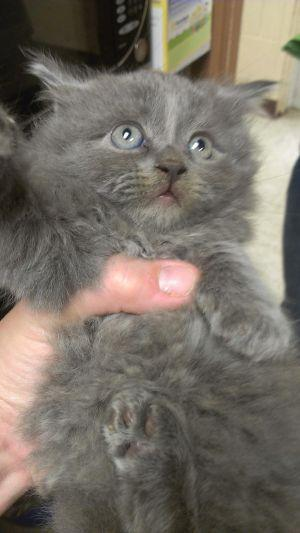persian: (32, 21, 277, 276)
